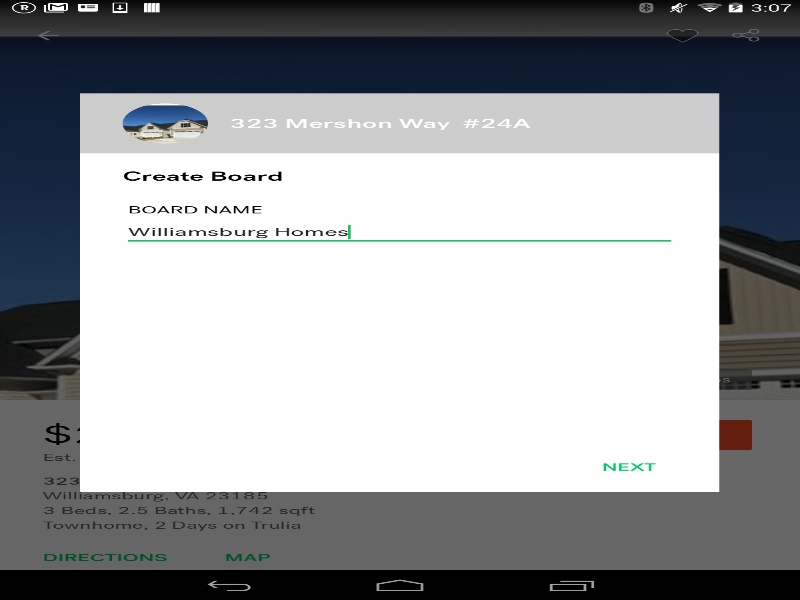Input: (122, 218, 676, 245)
